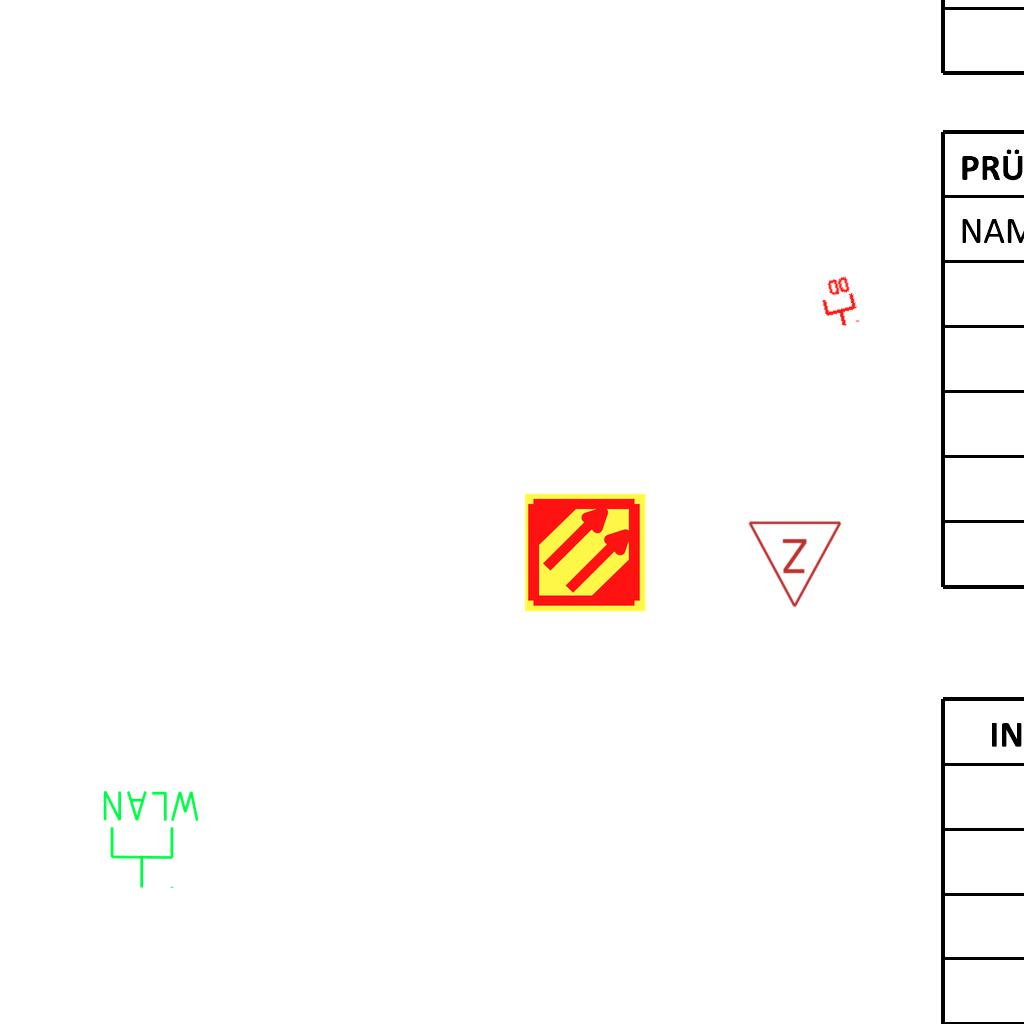ASR_Ansaugrauchmelder: (523, 490, 648, 615)
Datenanschluss_zweifach: (815, 273, 861, 332)
WLAN: (99, 787, 204, 891)
Zimmersignalleuchte: (747, 514, 845, 614)
